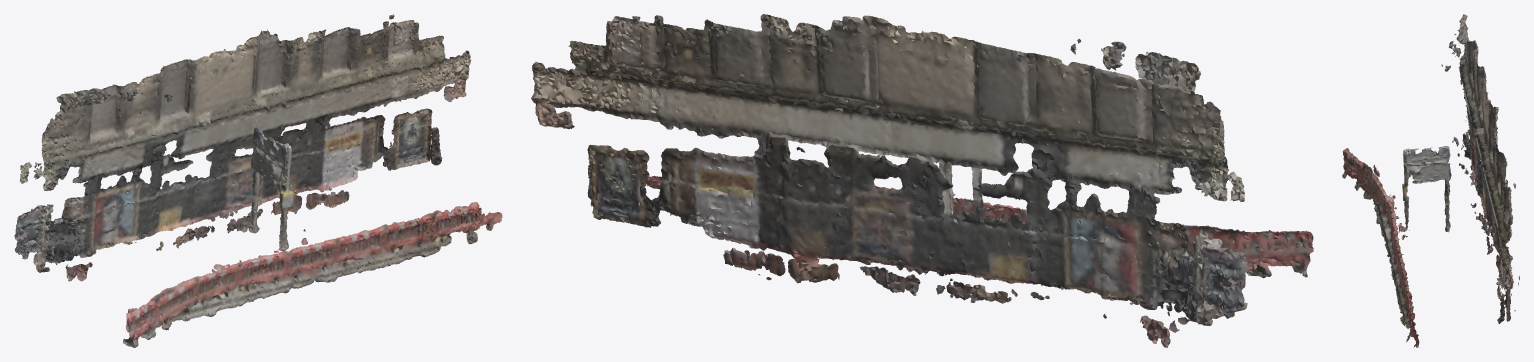
The model's file is ArgyleStreet.gltf.
3 views of the same model, side by side, from view 1: azimuth 30°, elevation 25°; view 2: azimuth 150°, elevation 25°; view 3: azimuth 270°, elevation 25° (orthographic). The views are drawn at different scales.
Size of the model in its own units: 36.75 by 15.92 by 14.42.
